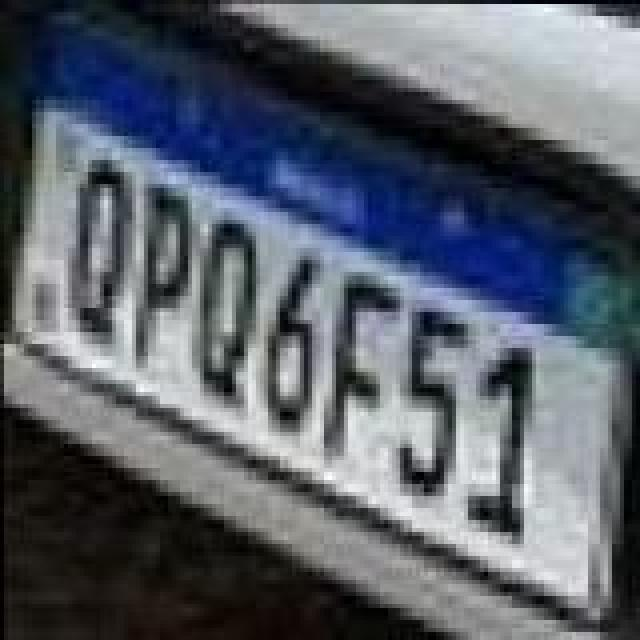1: (464, 340, 540, 544)
5: (394, 300, 474, 496)
6: (256, 250, 324, 434)
F: (324, 264, 408, 460)
P: (130, 180, 202, 364)
Q: (194, 214, 266, 414), (62, 154, 134, 342)
